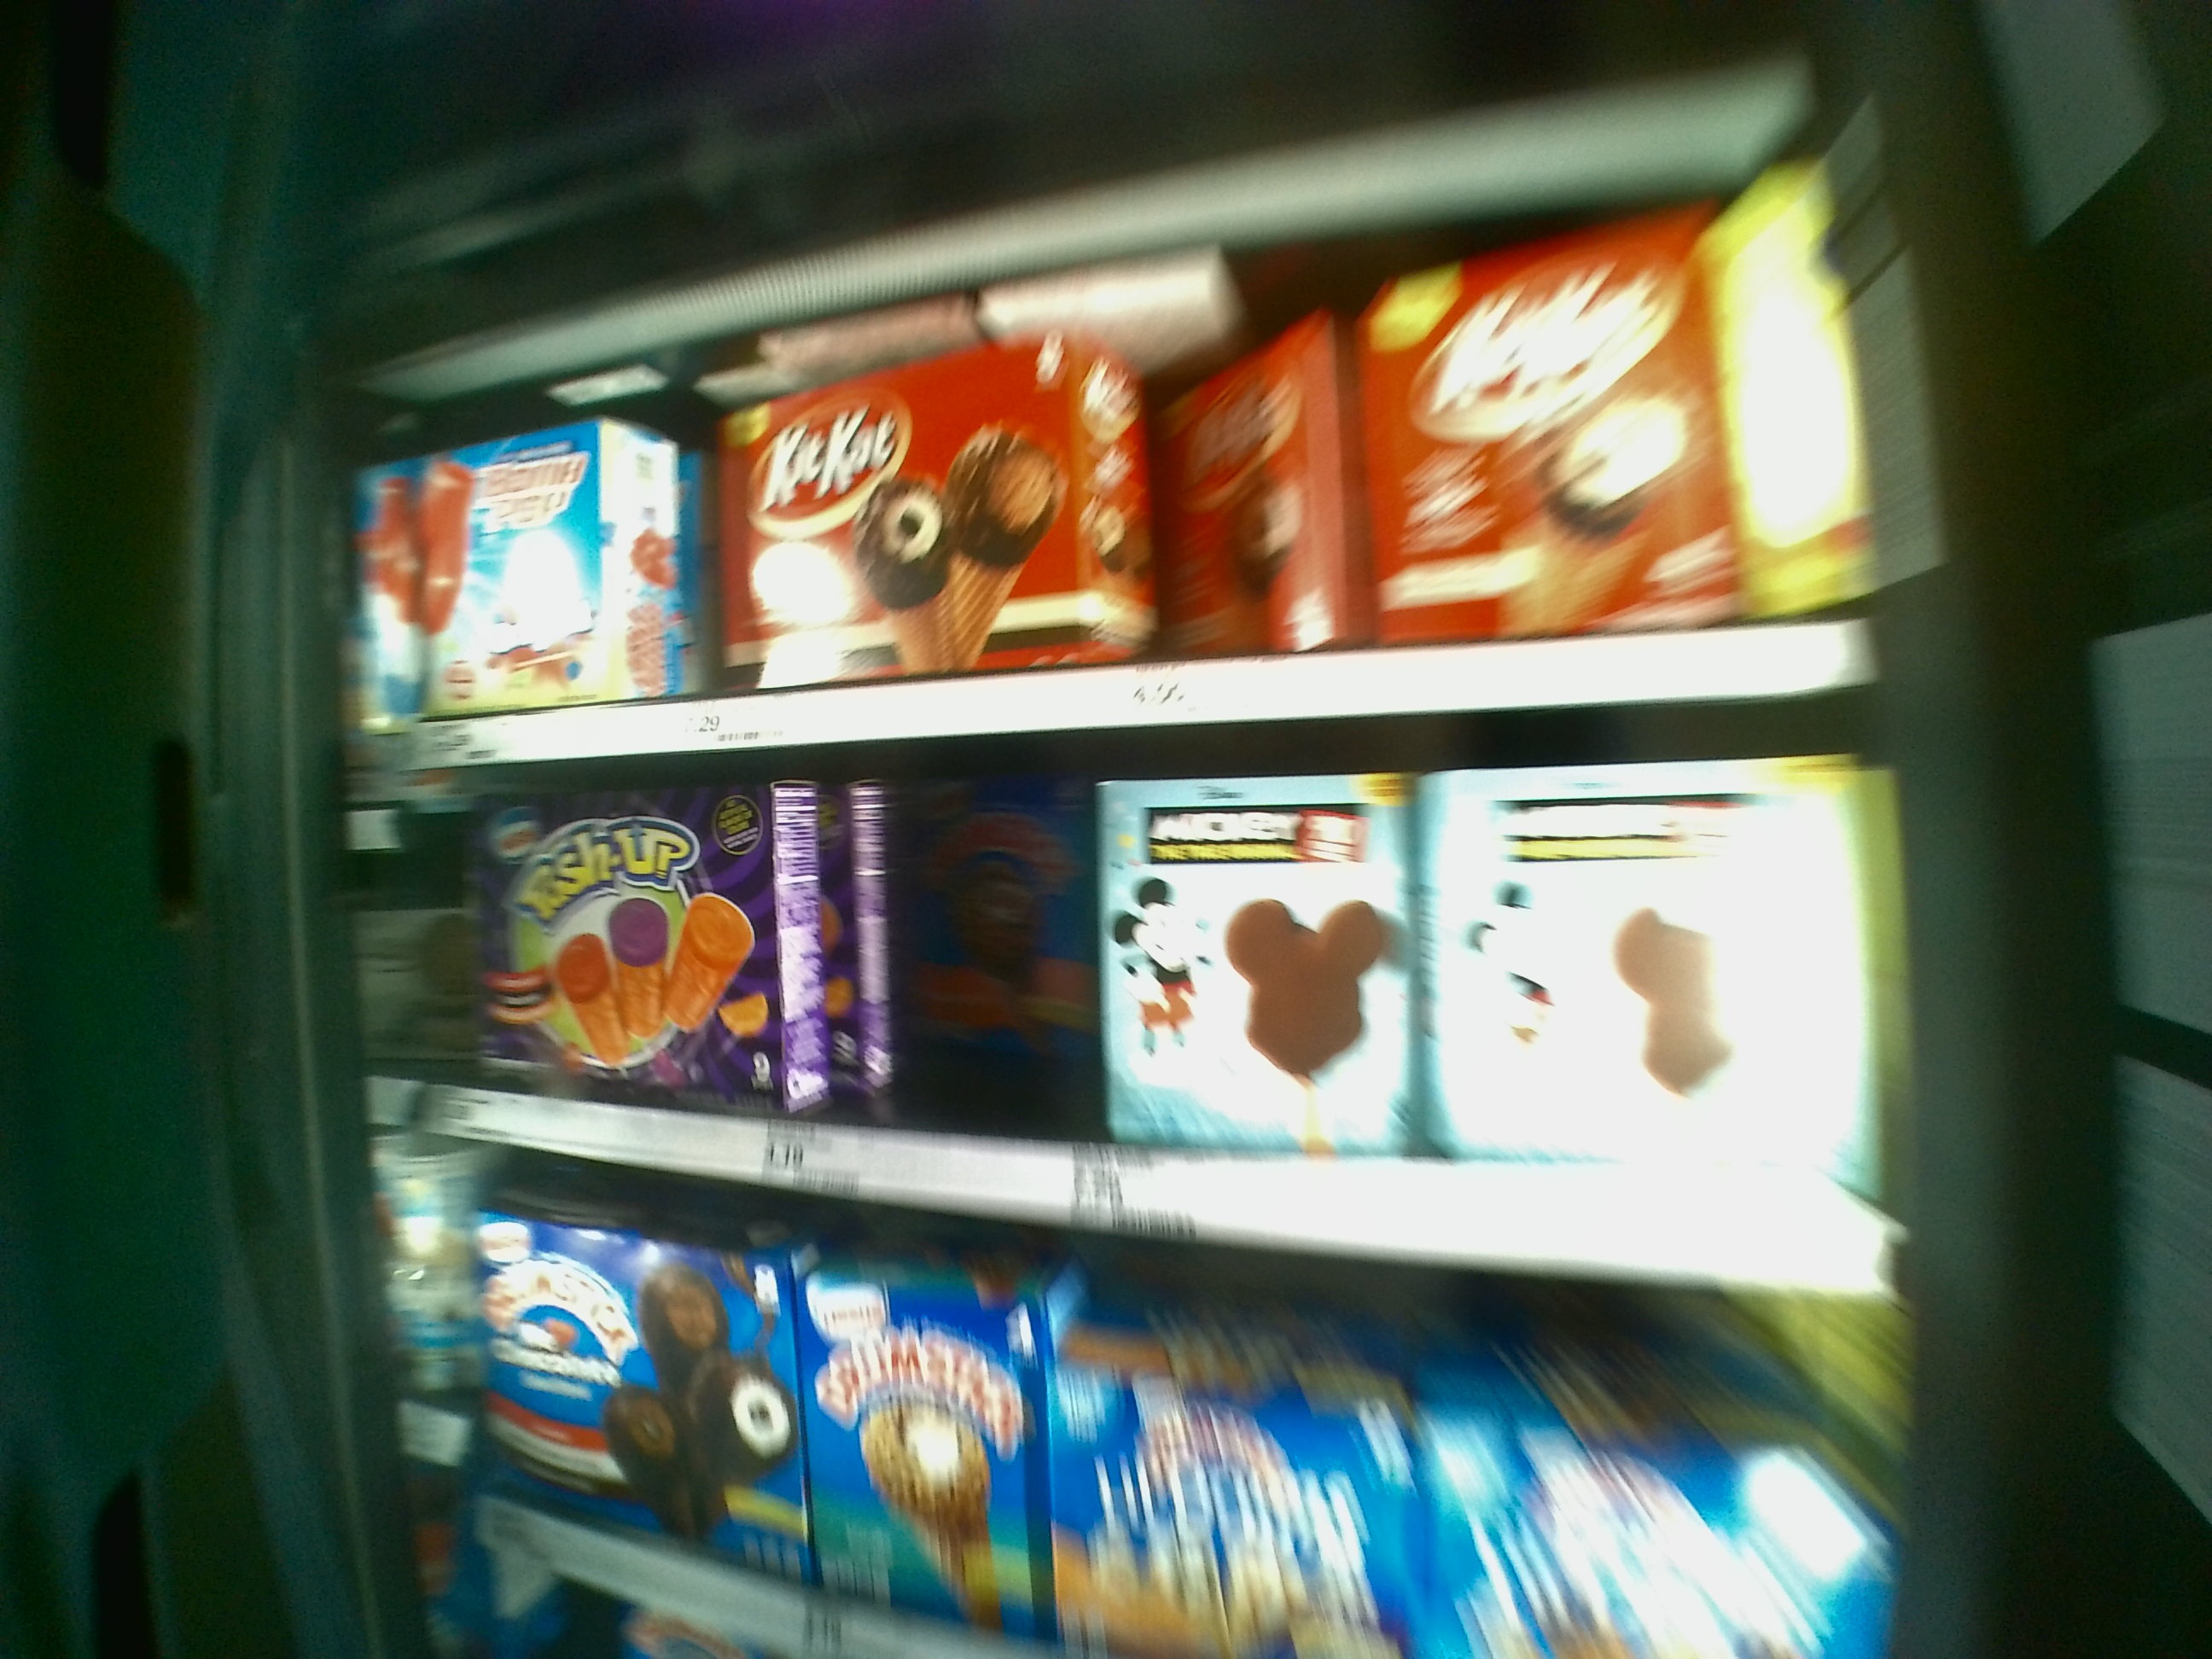shelf: (369, 244, 1860, 753), (352, 746, 1902, 1209)
